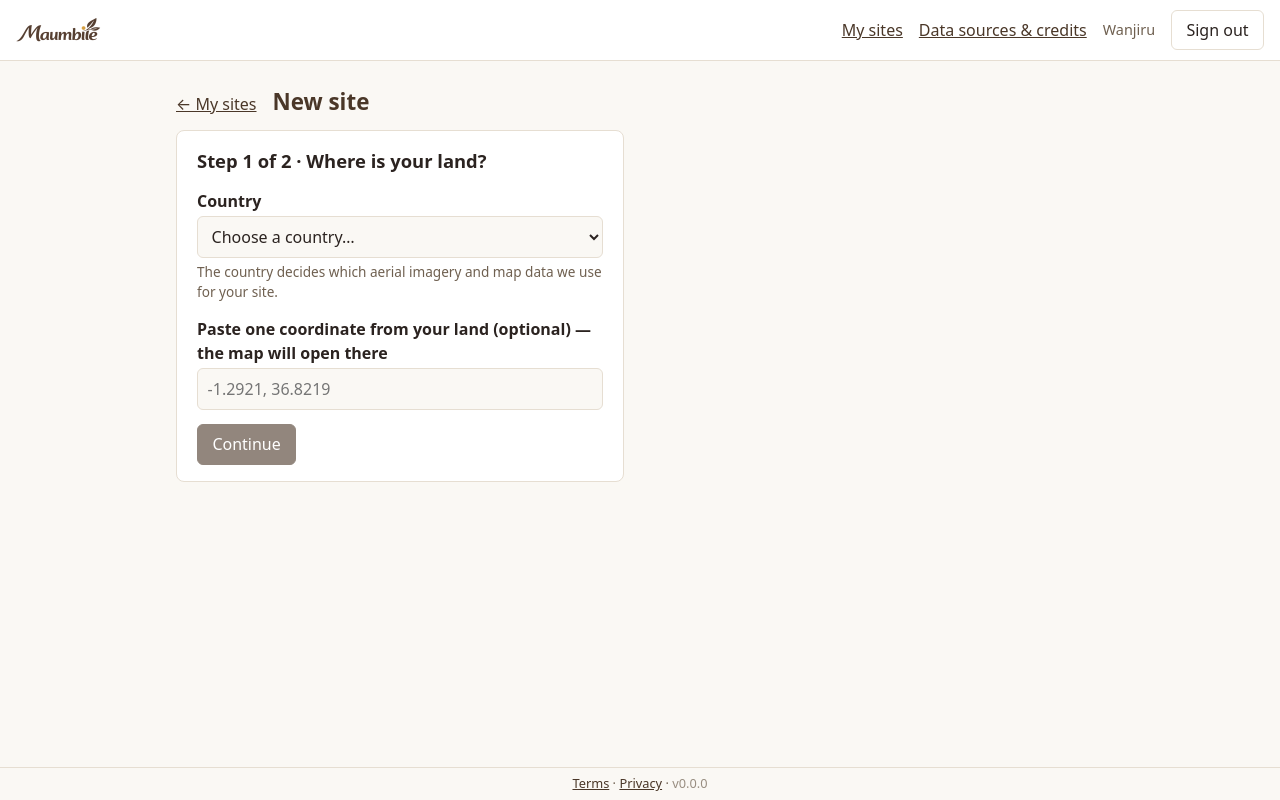
Test: site setup flow › requires a country before continuing, with East Africa listed first
This screenshot has width=1280, height=800.
Check: the button "Continue" is disabled, box [197,424,296,465]
Select "Tanzania" in the dropdown labelled "Country" at (400, 237), box [197,216,603,258]
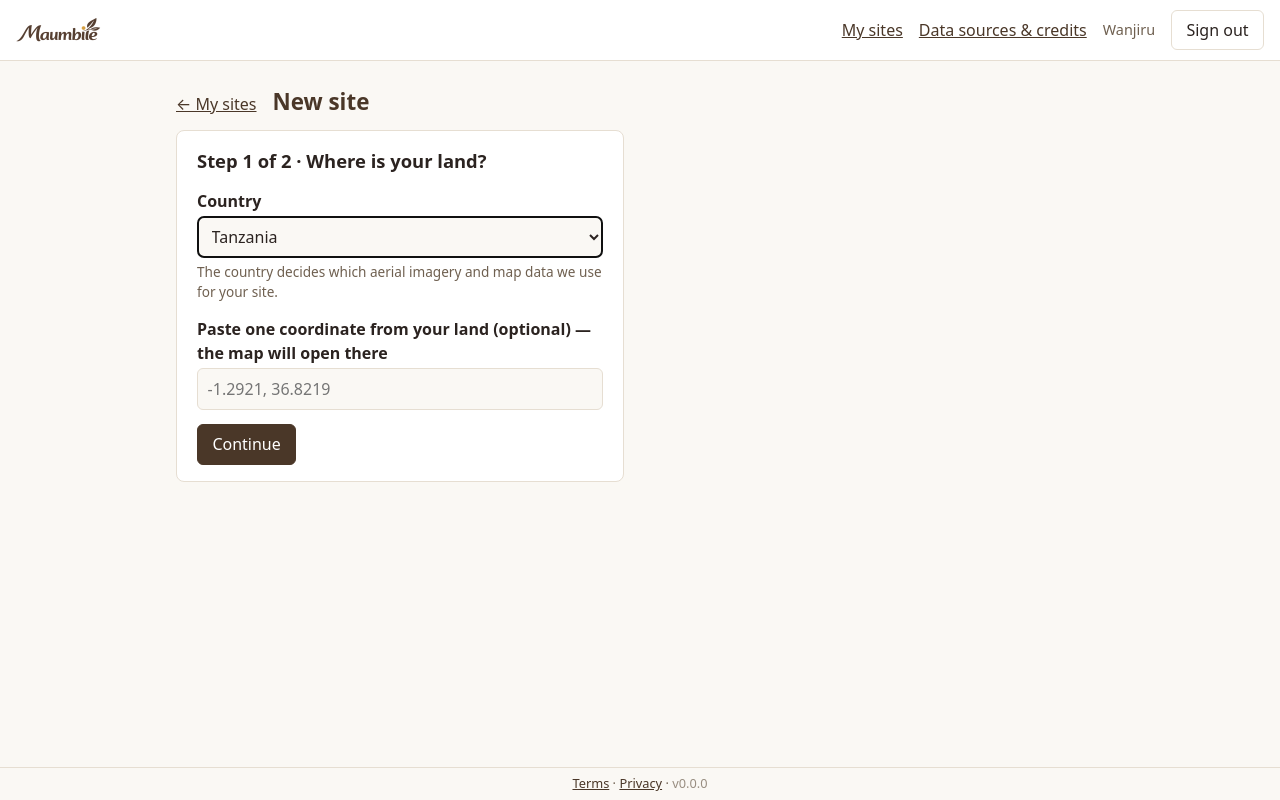
Check: the button "Continue" is enabled, box [197,424,296,465]
